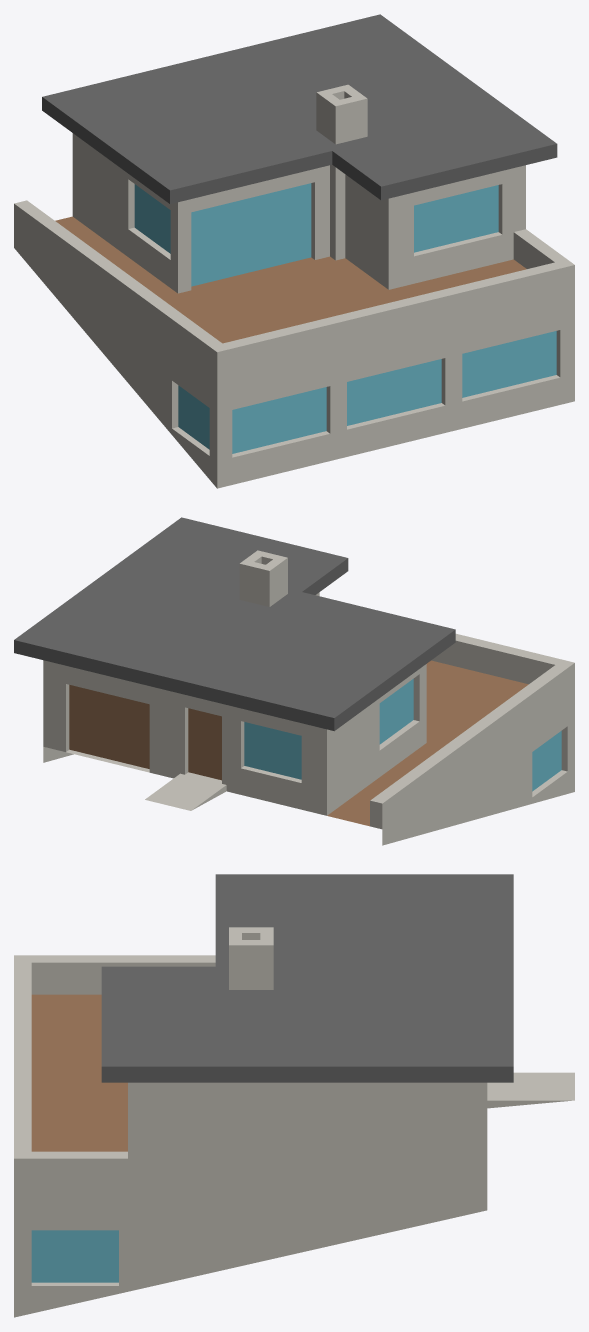
Rendered from house-hill.glb.
3 renders of one model, top to bottom at view 1: azimuth 30°, elevation 25°; view 2: azimuth 150°, elevation 25°; view 3: azimuth 270°, elevation 25°, orthographic. The views are drawn at different scales.
Parts seen in each view (by area): view 1: house-hill-normal_Cube.028; view 2: house-hill-normal_Cube.028; view 3: house-hill-normal_Cube.028.
Boxes of the visible parts, x1=… form: house-hill-normal_Cube.028: x1=14, y1=14, x2=574, y2=488; house-hill-normal_Cube.028: x1=14, y1=517, x2=574, y2=845; house-hill-normal_Cube.028: x1=14, y1=874, x2=574, y2=1317.
Bounding box in the file's own units: 11.59 × 7.72 × 12.8.
Materials: 1 (1 with a texture image).
